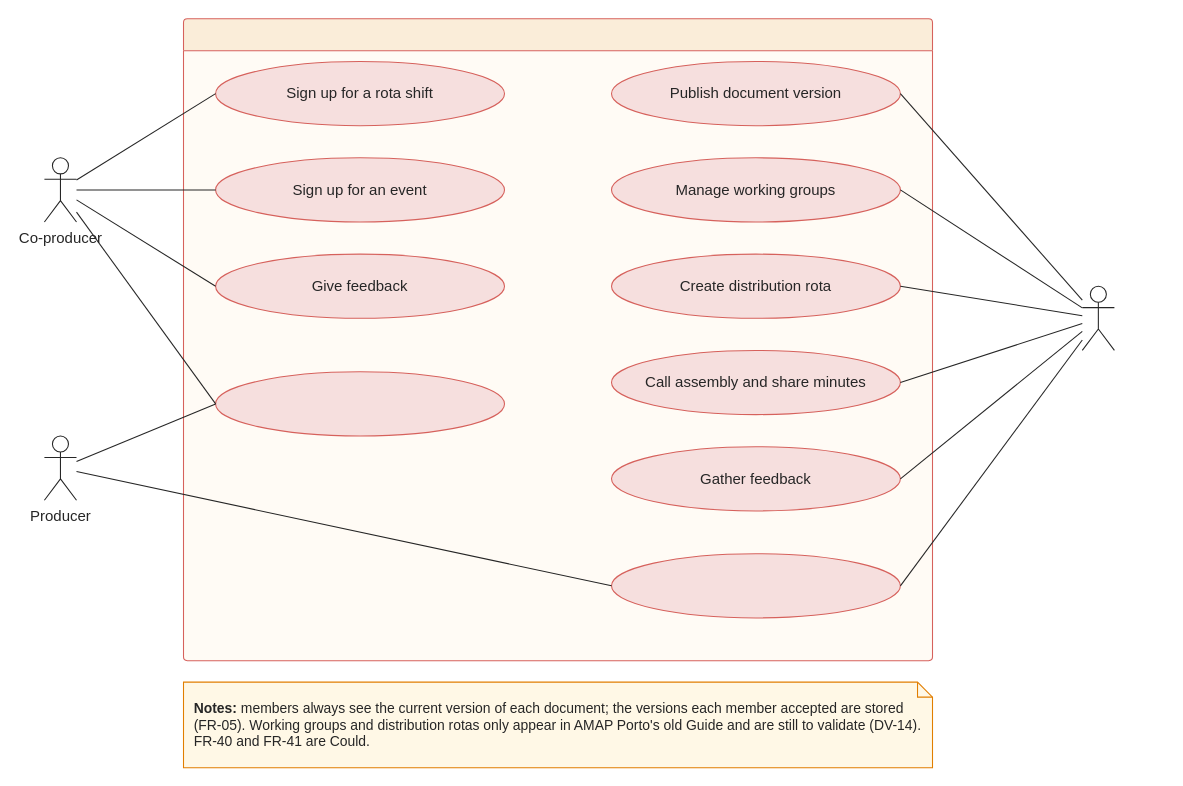
The diagram is 1183 pixels wide and 786 high, and some of its shapes have lost their labels. The box of each missing label's shape, as (x1, y1, x2, y2) in pixels:
AMAP management: (1081, 285, 1114, 350)
Consult documents and rules: (215, 371, 505, 436)
Create event: (610, 553, 900, 618)
FAIR-AMAP: (182, 18, 933, 661)
